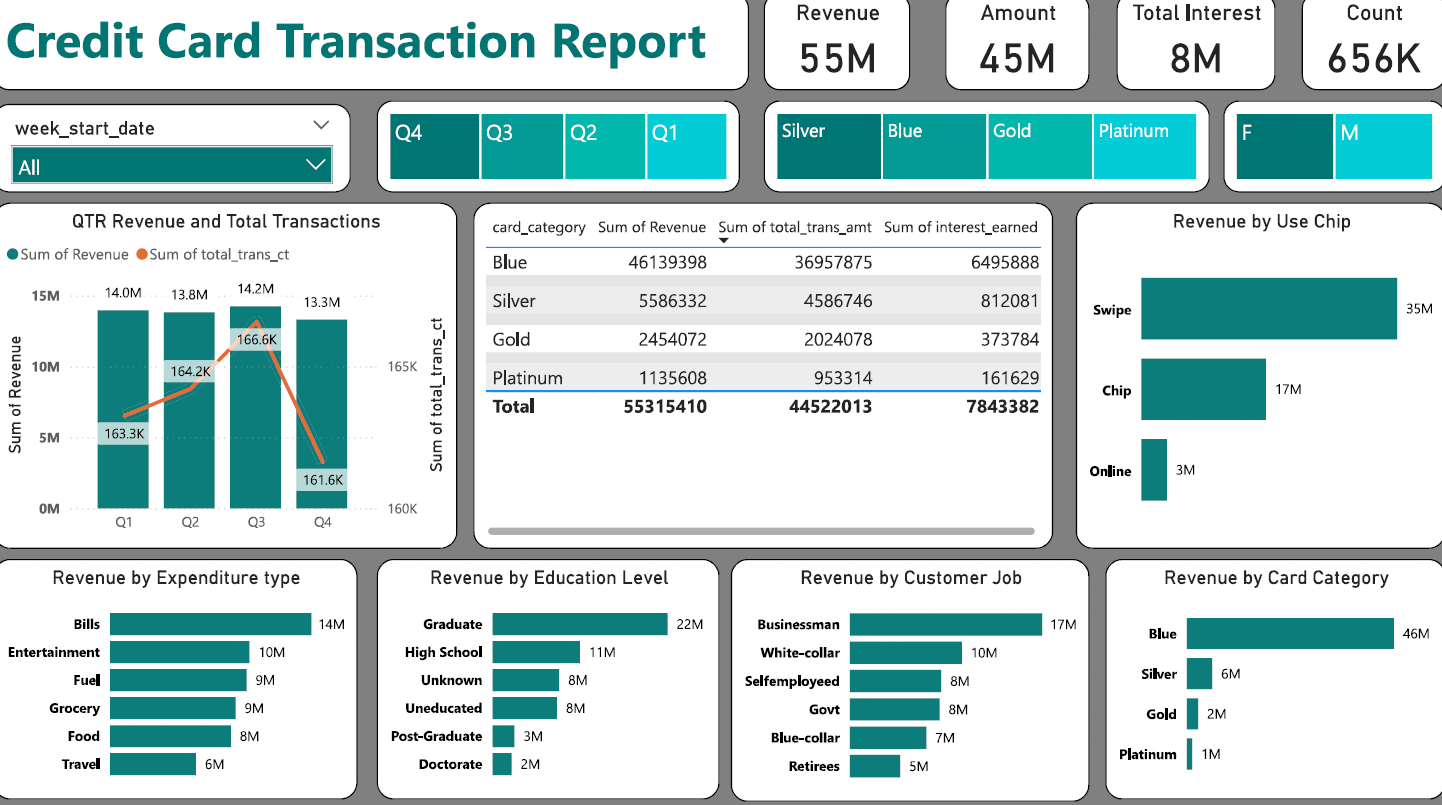

This screenshot's page, from the dashboard's own definition file:
{"tool":"powerbi","page":{"name":"Credit Card Transaction Report","canvas":[1280,720],"ordinal":0},"visuals":[{"type":"textbox","box":[0,0,666,85.7],"z":0},{"type":"lineStackedColumnComboChart","title":"QTR Revenue and Total Transactions","fields":{"Category":["public cc_detail.qtr"],"Y":["Sum(public cc_detail.Revenue)"],"Y2":["Sum(public cc_detail.total_trans_ct)"]},"box":[0,185.2,409.3,304.6],"z":1000},{"type":"barChart","title":"Revenue by Expenditure type","fields":{"Y":["Sum(public cc_detail.Revenue)"],"Category":["public cc_detail.exp_type"]},"box":[0,499.2,320.7,212],"z":2000},{"type":"barChart","title":"Revenue by Education Level","fields":{"Y":["Sum(public cc_detail.Revenue)"],"Category":["public cust_detail.education_level"]},"box":[338.2,499.2,302,212],"z":3000},{"type":"barChart","title":"Revenue by Customer Job","fields":{"Y":["Sum(public cc_detail.Revenue)"],"Category":["public cust_detail.customer_job"]},"box":[649.5,499.2,316.7,213.4],"z":4000},{"type":"barChart","title":"Revenue by Card Category","fields":{"Y":["Sum(public cc_detail.Revenue)"],"Category":["public cc_detail.card_category"]},"box":[979.7,499.2,300.6,212],"z":5000},{"type":"barChart","title":"Revenue by Use Chip","fields":{"Y":["Sum(public cc_detail.Revenue)"],"Category":["public cc_detail.use_chip"]},"box":[954.2,185.2,326.1,304.6],"z":6000},{"type":"tableEx","fields":{"Values":["public cc_detail.card_category","Sum(public cc_detail.Revenue)","Sum(public cc_detail.total_trans_amt)","Sum(public cc_detail.interest_earned)"]},"box":[422.7,185.2,511.3,304.6],"z":7000},{"type":"card","title":"Revenue","fields":{"Values":["Sum(public cc_detail.Revenue)"]},"box":[679.1,0,128.8,85.9],"z":8000},{"type":"card","title":"Amount","fields":{"Values":["Sum(public cc_detail.total_trans_amt)"]},"box":[838.8,0,127.5,85.9],"z":9000},{"type":"card","title":"Total Interest","fields":{"Values":["Sum(public cc_detail.interest_earned)"]},"box":[990.4,0,139.6,85.9],"z":10000},{"type":"card","title":"Transactions","fields":{"Values":["Sum(public cc_detail.total_trans_ct)"]},"box":[1145.8,0,134.5,86.4],"z":11000},{"type":"slicer","fields":{"Values":["public cc_detail.week_start_date"]},"box":[0,98,315.4,77.8],"z":12000},{"type":"treemap","fields":{"Group":["public cc_detail.qtr"],"Values":["Avg(public cc_detail.client_num)"]},"box":[338.2,95.3,319.4,80.5],"z":13000},{"type":"treemap","fields":{"Values":["Avg(public cc_detail.client_num)"],"Group":["public cust_detail.gender"]},"box":[1084.3,95.3,195.9,80.5],"z":14000},{"type":"treemap","fields":{"Values":["Avg(public cc_detail.client_num)"],"Group":["public cc_detail.card_category"]},"box":[679.1,95.3,393.2,80.5],"z":15000}]}

Visuals, with their boxes in screenshot pixels (x1, y1, x2, y2), scaled from the page's 1280x720 canvas onto the 1442x805 screenshot:
textbox: <bbox>0, 0, 750, 96</bbox>
"QTR Revenue and Total Transactions" lineStackedColumnComboChart: <bbox>0, 207, 461, 548</bbox>
"Revenue by Expenditure type" barChart: <bbox>0, 558, 361, 795</bbox>
"Revenue by Education Level" barChart: <bbox>381, 558, 721, 795</bbox>
"Revenue by Customer Job" barChart: <bbox>732, 558, 1088, 797</bbox>
"Revenue by Card Category" barChart: <bbox>1104, 558, 1441, 795</bbox>
"Revenue by Use Chip" barChart: <bbox>1075, 207, 1441, 548</bbox>
tableEx - public cc_detail.card_category x Sum(public cc_detail.Revenue): <bbox>476, 207, 1052, 548</bbox>
"Revenue" card: <bbox>765, 0, 910, 96</bbox>
"Amount" card: <bbox>945, 0, 1089, 96</bbox>
"Total Interest" card: <bbox>1116, 0, 1273, 96</bbox>
"Transactions" card: <bbox>1291, 0, 1441, 97</bbox>
slicer - public cc_detail.week_start_date: <bbox>0, 110, 355, 197</bbox>
treemap - public cc_detail.qtr x Avg(public cc_detail.client_num): <bbox>381, 107, 741, 197</bbox>
treemap - Avg(public cc_detail.client_num) x public cust_detail.gender: <bbox>1222, 107, 1441, 197</bbox>
treemap - Avg(public cc_detail.client_num) x public cc_detail.card_category: <bbox>765, 107, 1208, 197</bbox>
